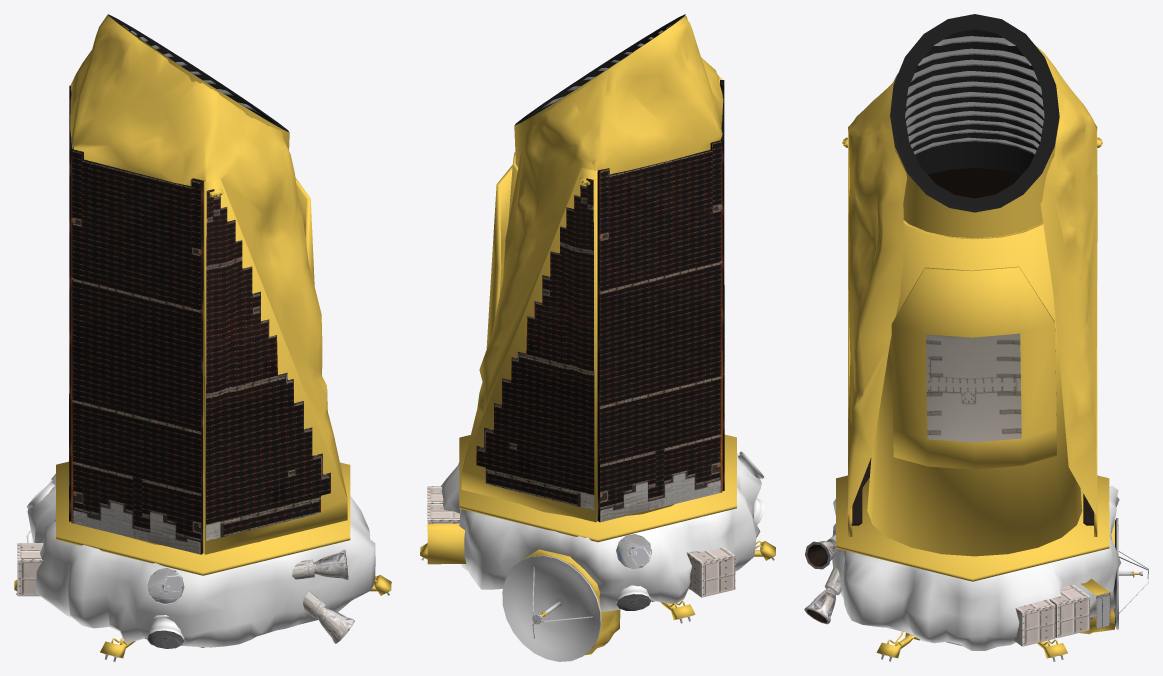
File: kepler.glb
3 renders of one model, left to right at view 1: azimuth 30°, elevation 25°; view 2: azimuth 150°, elevation 25°; view 3: azimuth 270°, elevation 25°, orthographic. The views are drawn at different scales.
Parts seen in each view (by area): view 1: shiny_panel, Kepler, foil_silver, kepler_texture; view 2: shiny_panel, Kepler, foil_silver, dish_AO, kepler_texture; view 3: Kepler, kepler_texture, foil_silver, dish_AO.
Boxes of the visible parts, x1=… form: shiny_panel: x1=69, y1=85, x2=330, y2=554; Kepler: x1=14, y1=14, x2=391, y2=658; foil_silver: x1=16, y1=474, x2=389, y2=661; kepler_texture: x1=17, y1=14, x2=354, y2=648; shiny_panel: x1=476, y1=80, x2=724, y2=522; Kepler: x1=420, y1=14, x2=775, y2=655; foil_silver: x1=421, y1=451, x2=774, y2=623; dish_AO: x1=502, y1=555, x2=601, y2=661; kepler_texture: x1=427, y1=14, x2=735, y2=610; Kepler: x1=836, y1=44, x2=1138, y2=658; kepler_texture: x1=804, y1=14, x2=1110, y2=646; foil_silver: x1=832, y1=485, x2=1120, y2=661; dish_AO: x1=1113, y1=518, x2=1148, y2=629.
Size of the model in its own units: 2.65 by 5.01 by 2.66.
7 materials, 4 textured.
